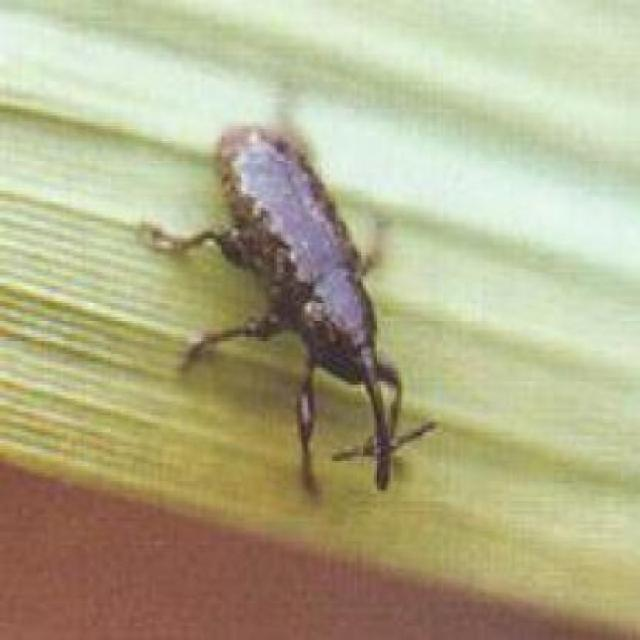rice-bug: (186, 121, 408, 499)
